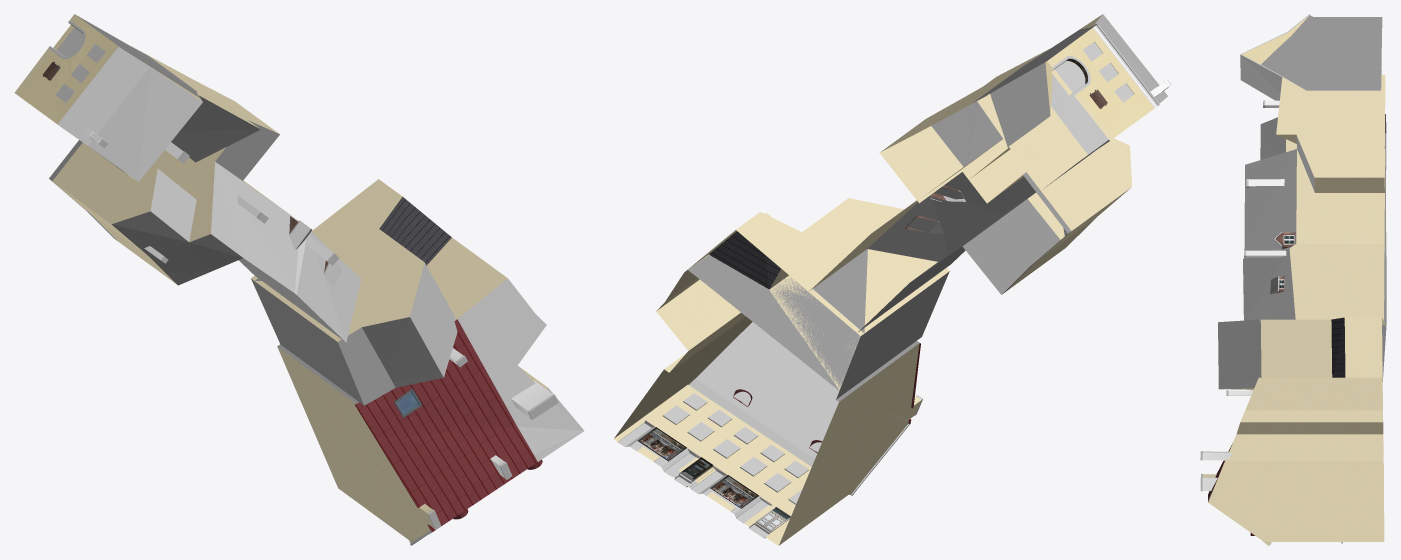
The model's file is Pikk_9.obj.
3 views of the same model, side by side, from view 1: azimuth 30°, elevation 25°; view 2: azimuth 150°, elevation 25°; view 3: azimuth 270°, elevation 25° (orthographic). The views are drawn at different scales.
Parts seen in each view (by area): view 1: Pikk_9; view 2: Pikk_9; view 3: Pikk_9.
Part boxes in pixels (x1,y1,x2,y2): Pikk_9: (14,14,584,545); Pikk_9: (613,14,1171,545); Pikk_9: (1200,14,1386,545).
Size of the model in its own units: 47.98 by 51.19 by 20.42.
